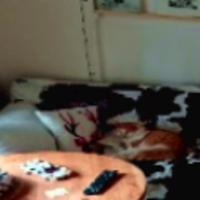asleep: (108, 120, 188, 161)
